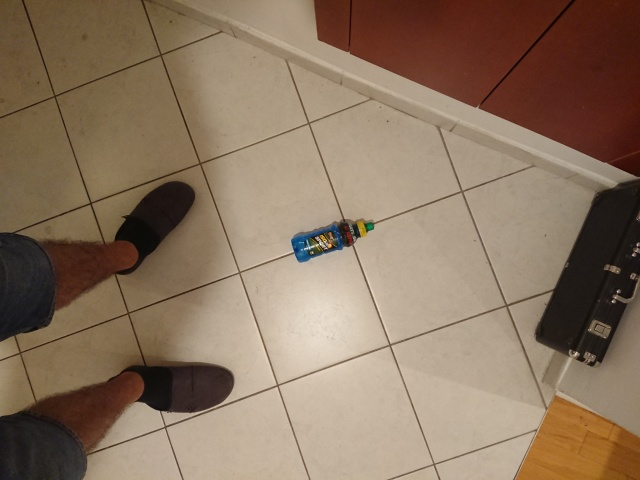Vindi Iso Sport Forest Strawberries 500mL: (290, 218, 375, 263)
